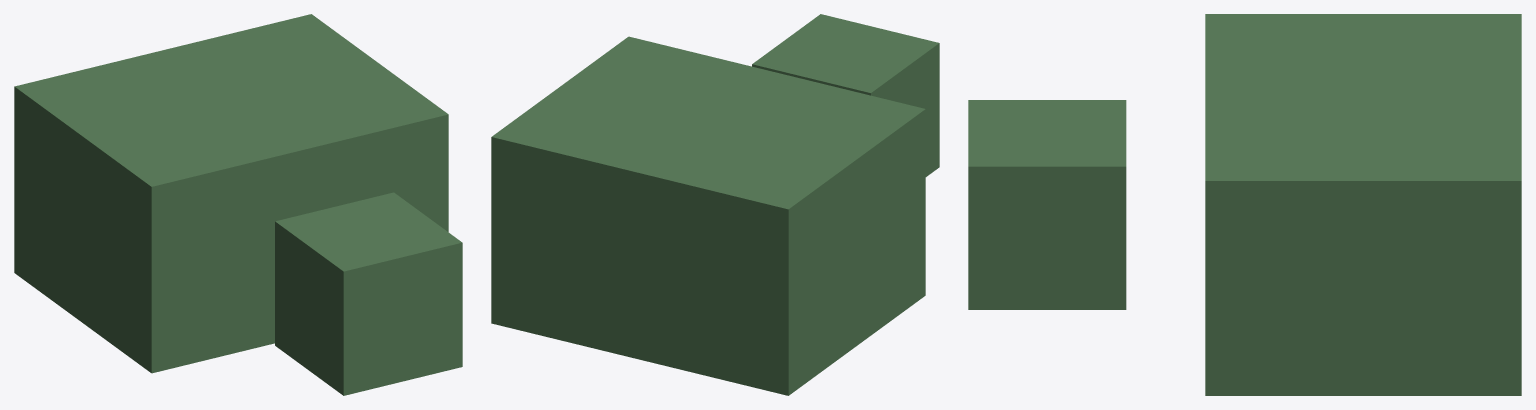
Rendered from troll.obj.
The picture shows the model from 3 angles, left to right: view 1: azimuth 30°, elevation 25°; view 2: azimuth 150°, elevation 25°; view 3: azimuth 270°, elevation 25°; orthographic projection. The views are drawn at different scales.
Size of the model in its own units: 1 by 0.6 by 1.4.
